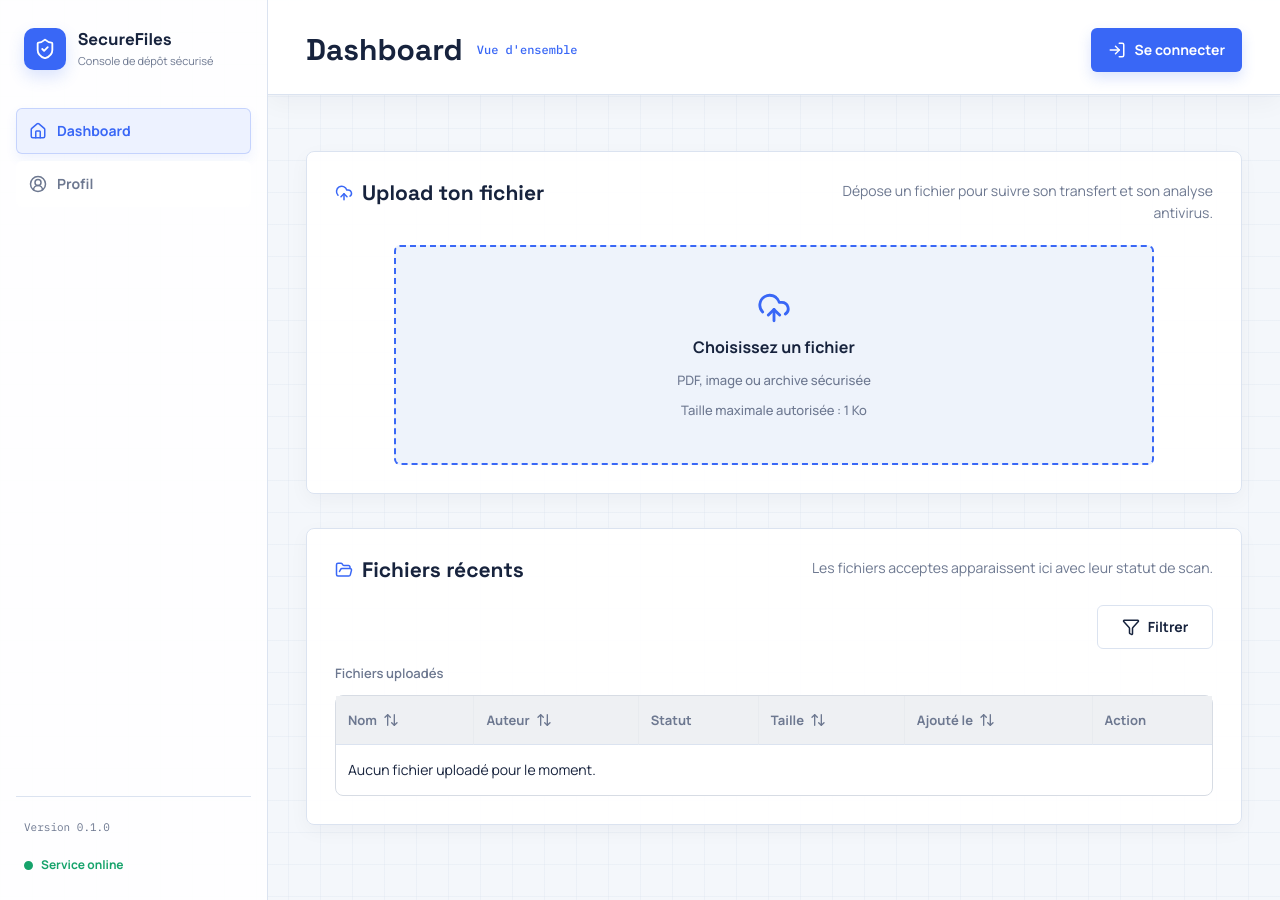
Scenario: App › opens the connection form before an anonymous visitor selects a file
This screenshot has width=1280, height=900.
Click the text "Choisissez un fichier" at (774, 347), box [693,335,855,360]
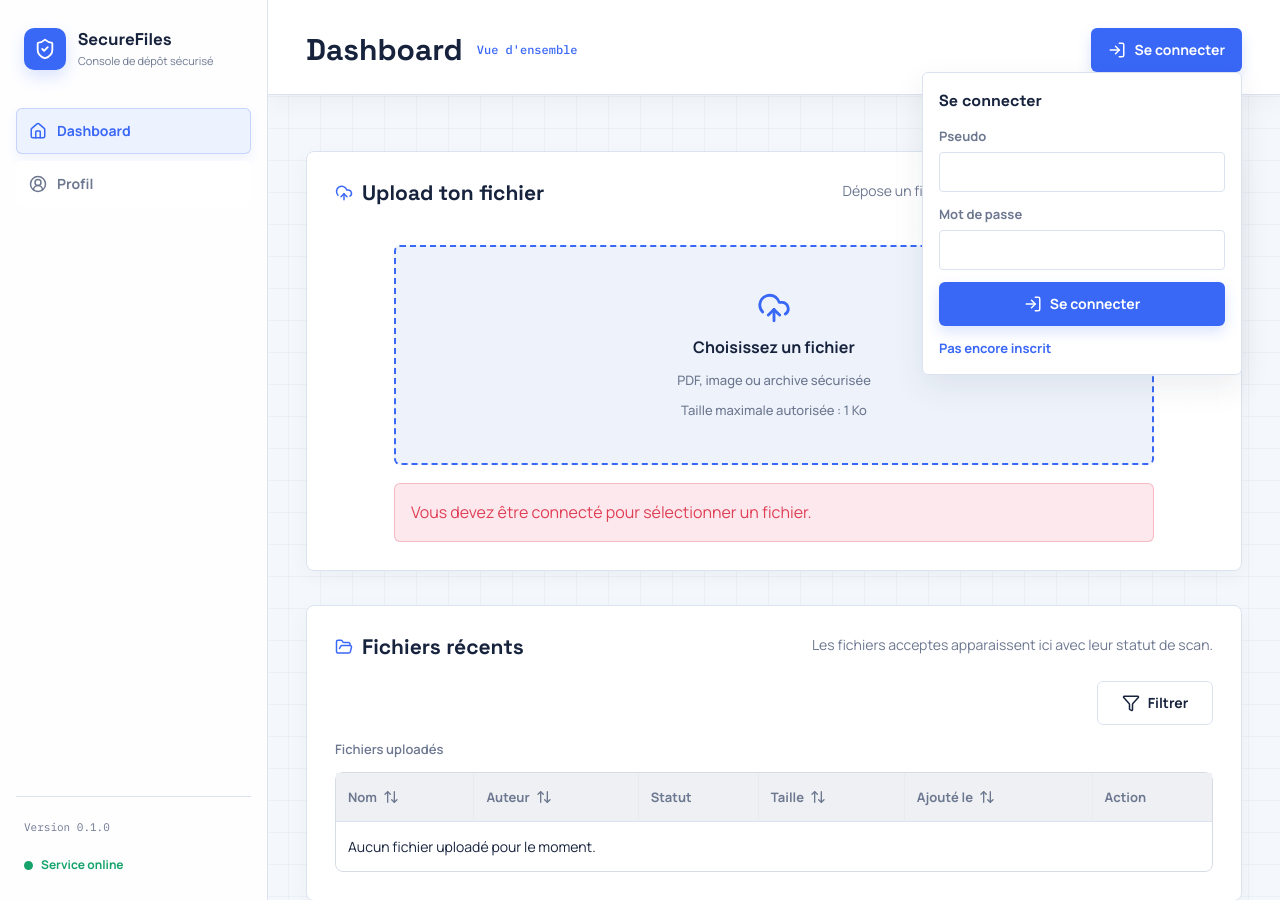
Expected: the message reads "Vous devez être connecté pour sélectionner un fichier.", [411,501,812,523]
Expected: the form named "Connexion" is shown, [939,89,1225,358]
